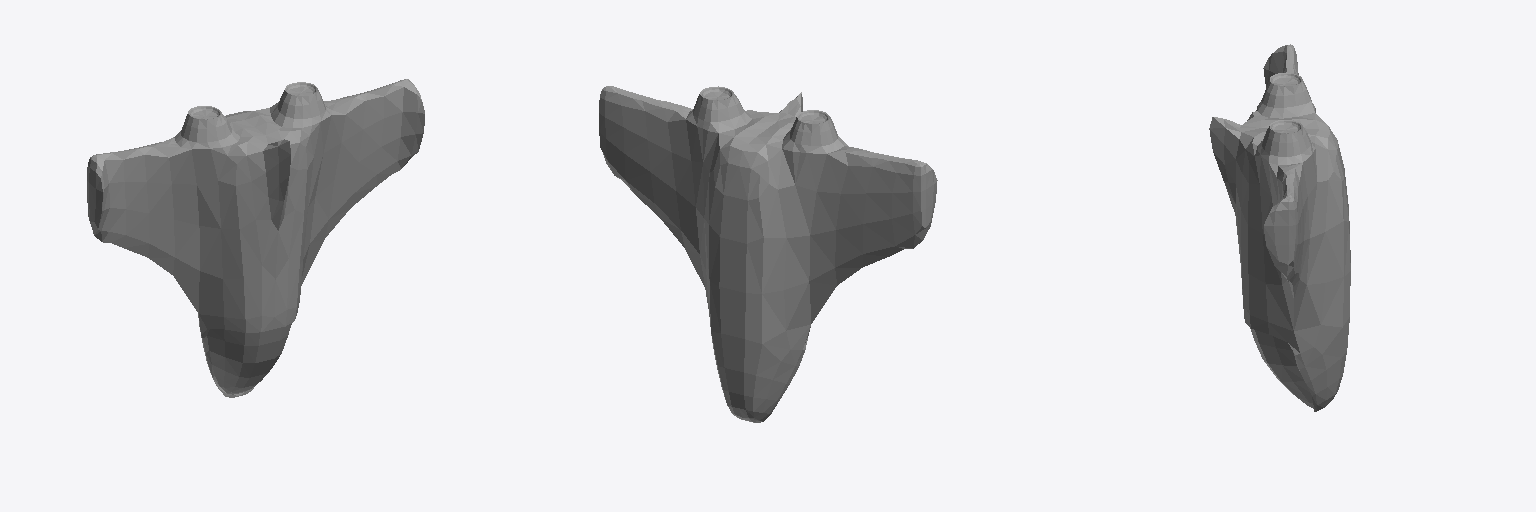
Rendered from spaceship3.obj.
3 views of the same model, side by side, from view 1: azimuth 30°, elevation 25°; view 2: azimuth 150°, elevation 25°; view 3: azimuth 270°, elevation 25° (orthographic).
Parts seen in each view (by area): view 1: Cylinder; view 2: Cylinder; view 3: Cylinder.
Part boxes in pixels (x1,y1,x2,y2): Cylinder: (87,79,424,397); Cylinder: (599,86,937,422); Cylinder: (1209,44,1350,411).
Size of the model in its own units: 6.49 by 5.82 by 2.44.